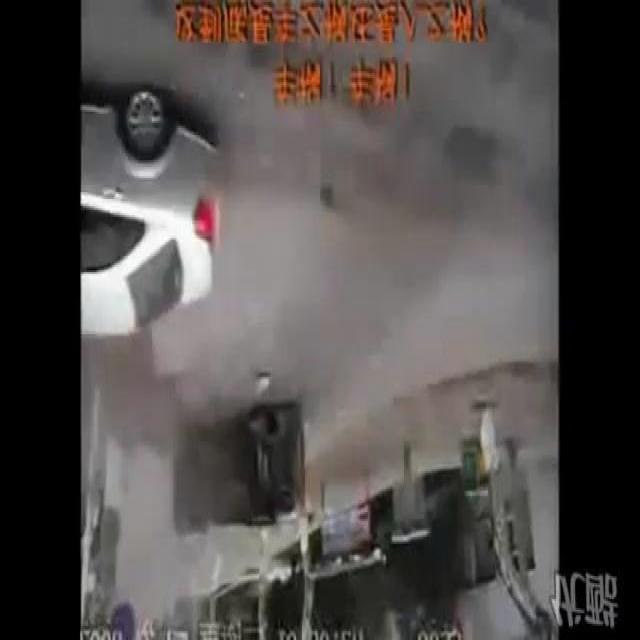severe: (166, 399, 309, 550)
